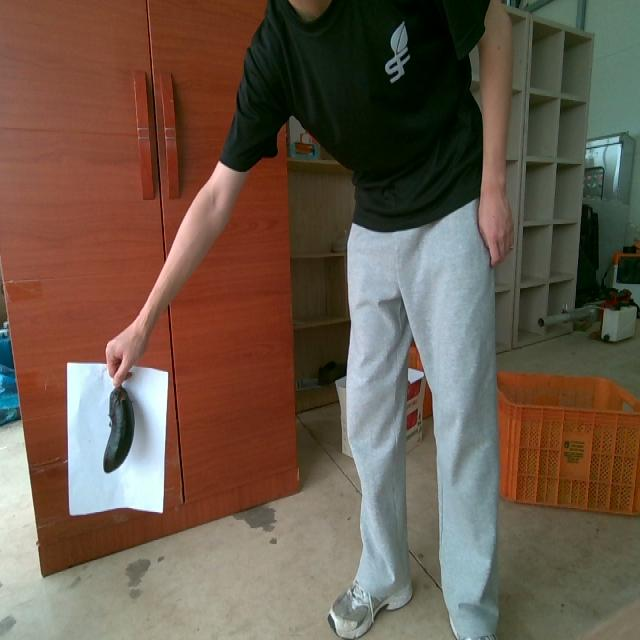Egg plant: (103, 387, 134, 472)
